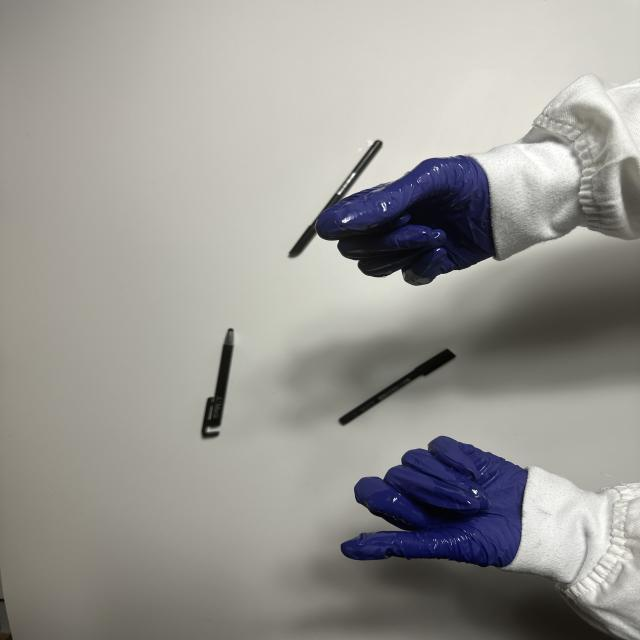gloves_contaminated: (341, 436, 527, 567), (316, 157, 495, 286)
